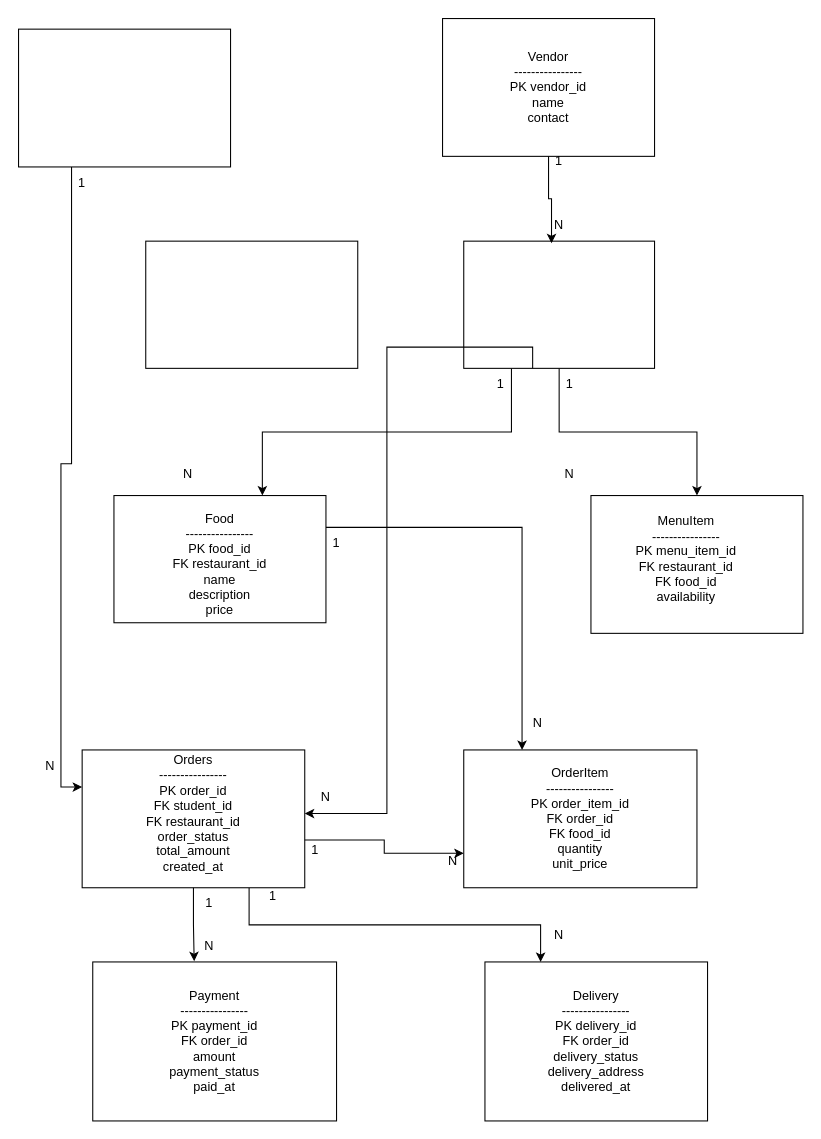
Image size: 821x1139. Some labels were removed from this diagram. The shapes that lost their labels are listed below. From the top down, each one's centre as x and y in pixels, then its label:
At point (124, 97): "Student ---------------- PK student_id name email password".
At point (251, 304): "Administrator ---------------- PK administrator_id name email".
At point (559, 304): "Restaurant ---------------- PK restaurant_id FK vendor_id name location".
